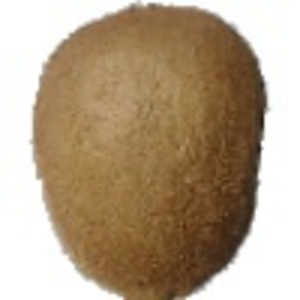kiwi: (29, 1, 270, 300)
